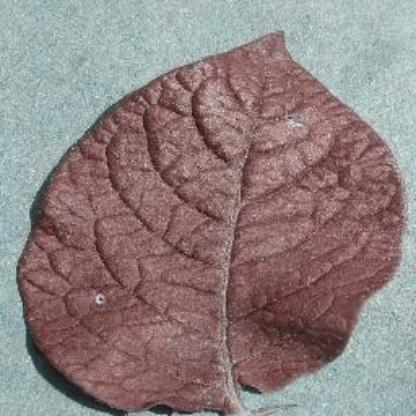Healthy-plant: (18, 32, 406, 416)
